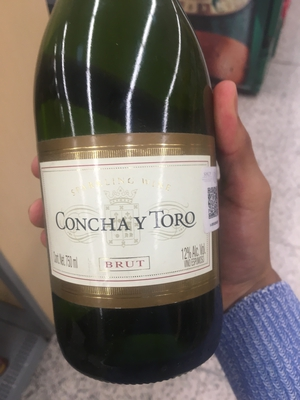brut: (31, 11, 242, 388)
